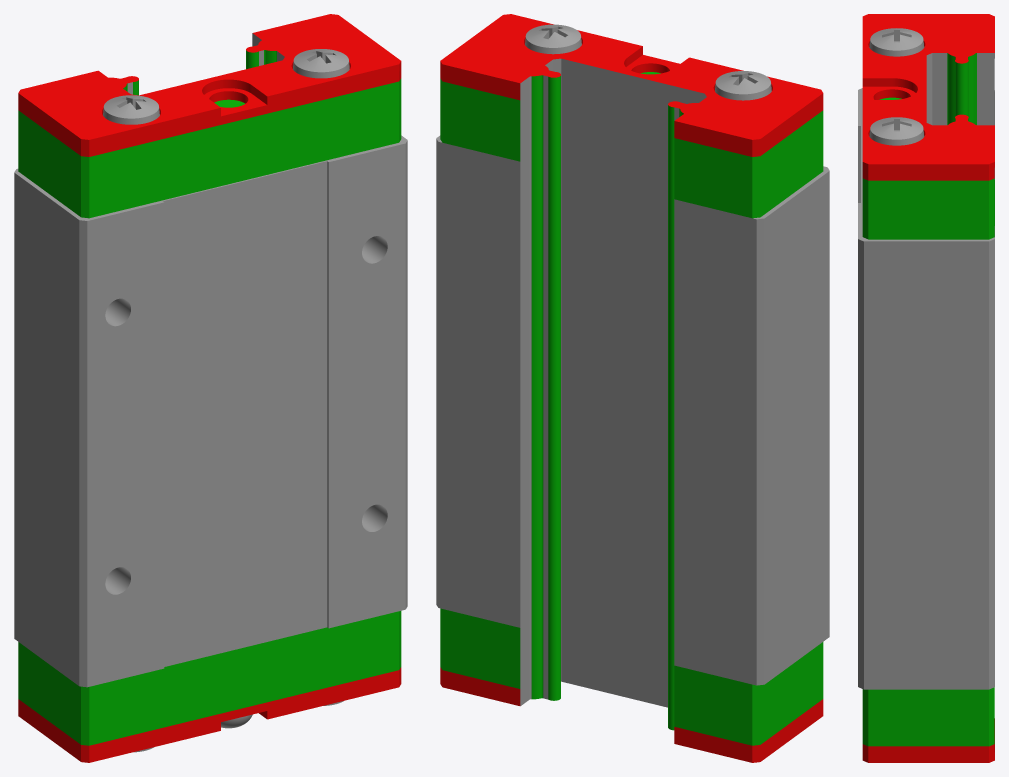
Rendered from _2026_04_18_23_46_41_0005_body1.gltf.
3 renders of one model, left to right at view 1: azimuth 30°, elevation 25°; view 2: azimuth 150°, elevation 25°; view 3: azimuth 270°, elevation 25°, orthographic. The views are drawn at different scales.
Visible parts, largest first — view 1: mesh19868, mesh19897, mesh19865, mesh19869, mesh19883, mesh19912, mesh19952, mesh19959, mesh19945, mesh19867, mesh19879, mesh19908 (+7 smaller); view 2: mesh19923, mesh19874, mesh19892, mesh19869, mesh19952, mesh19930, mesh19933, mesh19935, mesh19891, mesh19875, mesh19936, mesh19902 (+17 smaller); view 3: mesh19896, mesh19952, mesh19886, mesh19939, mesh19893, mesh19895, mesh19887, mesh19942, mesh19903, mesh19921, mesh19894, mesh19981 (+14 smaller).
Boxes of the visible parts, box(x1,y1,x2,y2) form: mesh19868: box(163, 161, 327, 666); mesh19897: box(328, 143, 405, 628); mesh19865: box(87, 202, 164, 687); mesh19869: box(14, 173, 79, 685); mesh19883: box(89, 81, 398, 218); mesh19912: box(89, 611, 398, 745); mesh19952: box(18, 14, 400, 139); mesh19959: box(89, 670, 399, 762); mesh19945: box(89, 64, 399, 156); mesh19867: box(79, 220, 87, 687); mesh19879: box(18, 110, 80, 216); mesh19908: box(18, 642, 80, 744); mesh19923: box(561, 58, 704, 707); mesh19874: box(674, 199, 756, 685); mesh19892: box(438, 142, 520, 627); mesh19869: box(764, 171, 829, 684); mesh19952: box(440, 14, 822, 139); mesh19930: box(548, 76, 560, 700); mesh19933: box(531, 75, 540, 699); mesh19935: box(520, 77, 529, 705); mesh19891: box(442, 81, 520, 161); mesh19875: box(674, 138, 752, 217); mesh19936: box(442, 609, 520, 688); mesh19902: box(674, 665, 752, 745); mesh19896: box(864, 241, 988, 689); mesh19952: box(862, 14, 994, 164); mesh19886: box(868, 180, 988, 239); mesh19939: box(868, 689, 988, 746); mesh19893: box(989, 239, 994, 689); mesh19895: box(858, 239, 863, 689); mesh19887: box(868, 164, 988, 180); mesh19942: box(868, 746, 988, 762); mesh19903: box(977, 53, 994, 125); mesh19921: box(932, 53, 947, 125); mesh19894: box(858, 88, 994, 241); mesh19981: box(870, 117, 923, 139).
Size of the model in its own units: 0.032 by 0.0602 by 0.012.
